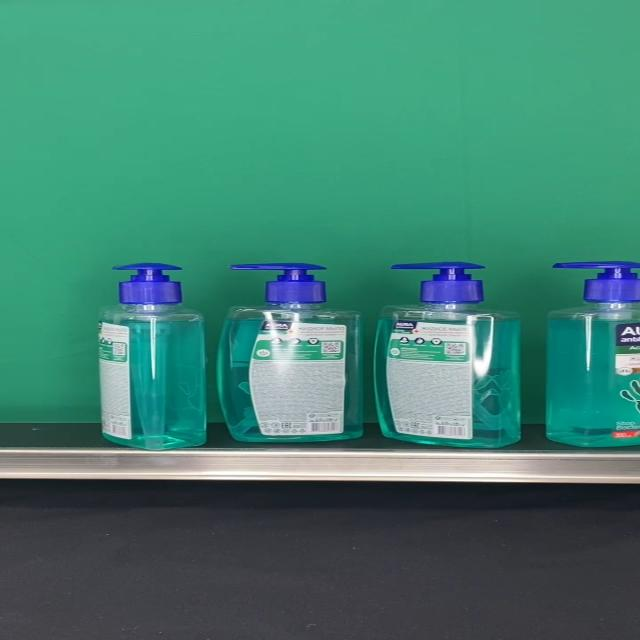Bottle: (372, 263, 520, 448), (217, 263, 364, 443), (96, 262, 206, 450)
Cap: (229, 263, 328, 305), (392, 262, 486, 304), (113, 262, 185, 304)
